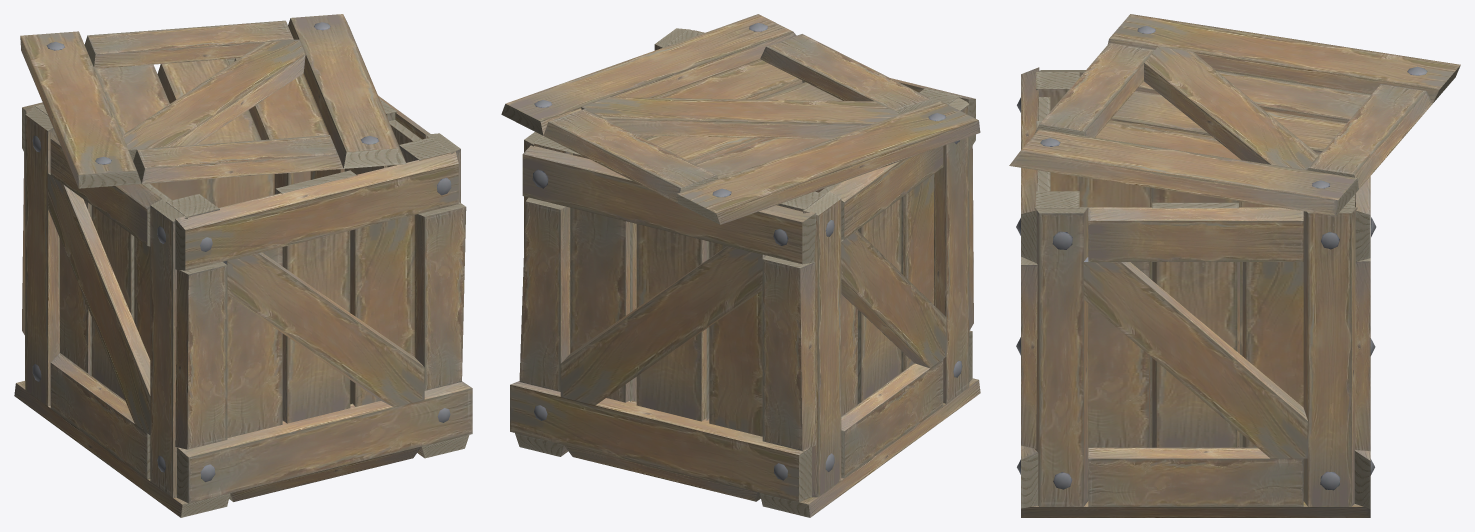
File: iw_snow_crate.fbx
3 views of the same model, side by side, from view 1: azimuth 30°, elevation 25°; view 2: azimuth 150°, elevation 25°; view 3: azimuth 270°, elevation 25° (orthographic). The views are drawn at different scales.
Visible parts, largest first — view 1: renderMesh0; view 2: renderMesh0; view 3: renderMesh0.
Part boxes in pixels (x1,y1,x2,y2): renderMesh0: (14, 14, 472, 517); renderMesh0: (501, 14, 980, 517); renderMesh0: (1009, 14, 1460, 517).
Bounding box in the file's own units: 120 × 101 × 121.
1 material, 1 textured.
